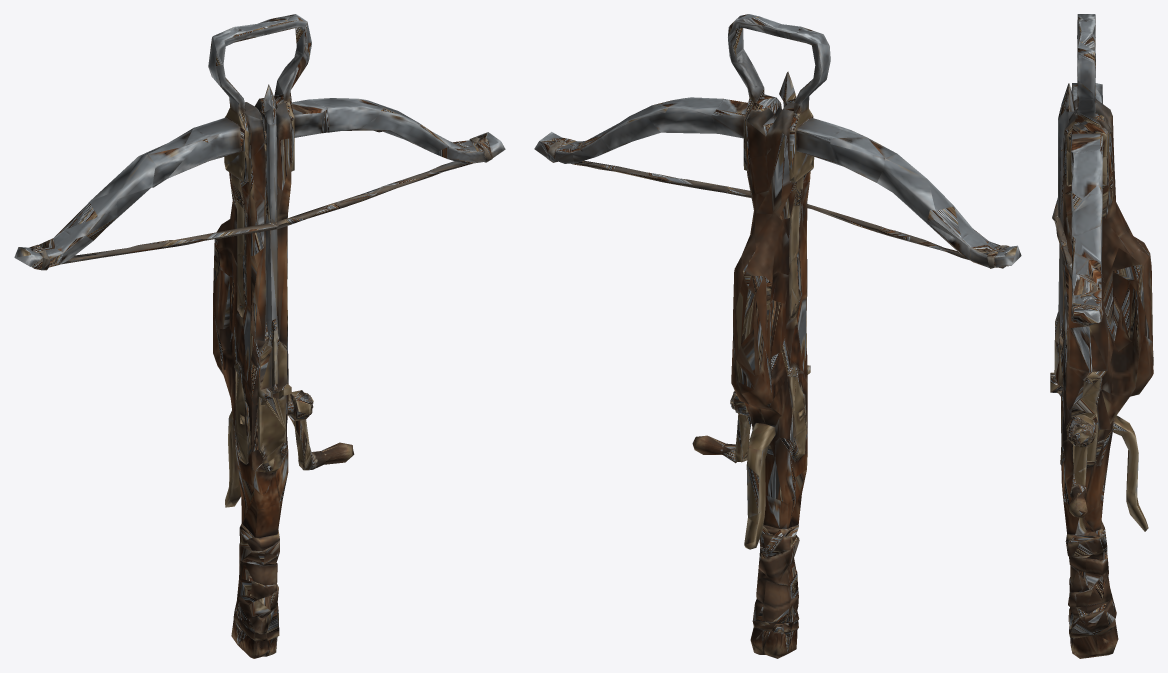
File: crossbow.glb
3 renders of one model, left to right at view 1: azimuth 30°, elevation 25°; view 2: azimuth 150°, elevation 25°; view 3: azimuth 270°, elevation 25°, orthographic.
Visible parts, largest first — view 1: Mesh_0; view 2: Mesh_0; view 3: Mesh_0.
Boxes of the visible parts, x1,y1,x2,y2 form: Mesh_0: [14, 14, 505, 658]; Mesh_0: [534, 14, 1021, 658]; Mesh_0: [1050, 14, 1153, 658].
Bounding box in the file's own units: 0.6761 × 0.85 × 0.1277.
Materials: 1 (1 with a texture image).
